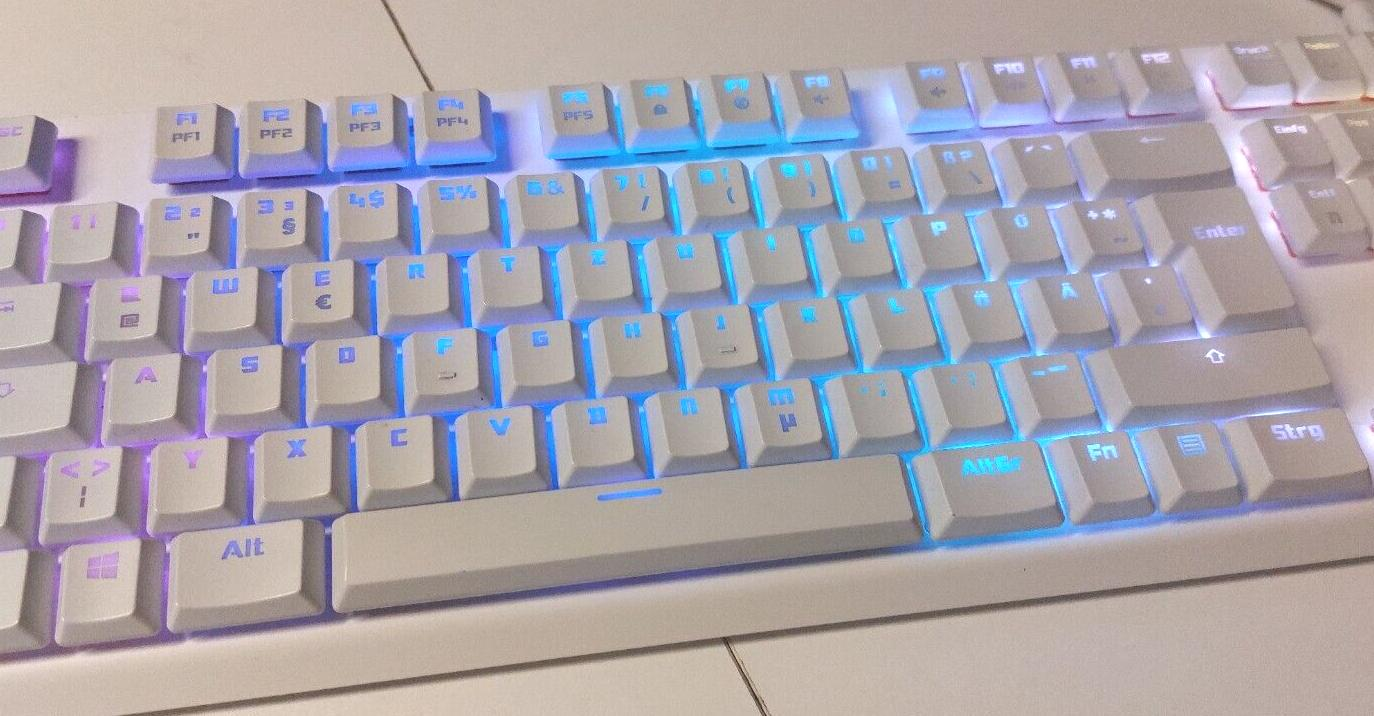0: (840, 142, 917, 203)
1: (44, 196, 116, 263)
2: (143, 192, 214, 257)
3: (236, 184, 308, 251)
4: (331, 178, 400, 243)
5: (425, 175, 492, 238)
6: (512, 167, 579, 230)
7: (597, 160, 665, 223)
8: (676, 154, 750, 217)
9: (760, 149, 834, 210)
a: (100, 349, 179, 425)
accent: (1005, 129, 1075, 189)
ae: (1031, 268, 1110, 333)
alt-left: (162, 514, 306, 621)
altgr-right: (910, 438, 1064, 534)
b: (552, 391, 635, 466)
c: (353, 411, 435, 490)
caret: (1, 203, 36, 270)
comma: (830, 366, 917, 439)
d: (309, 335, 385, 407)
del: (1081, 118, 1223, 179)
e: (279, 254, 355, 326)
enter: (1140, 183, 1294, 317)
f: (402, 323, 478, 395)
g: (497, 316, 574, 385)
h: (588, 309, 668, 375)
hash: (1115, 260, 1191, 327)
i: (735, 222, 809, 284)
j: (681, 300, 757, 368)
k: (766, 293, 848, 360)
keyboard: (1, 21, 1374, 716)
l: (855, 285, 938, 350)
less: (36, 442, 120, 526)
m: (734, 373, 824, 452)
minus: (1005, 348, 1096, 420)
n: (646, 382, 729, 456)
o: (817, 215, 894, 276)
oe: (942, 277, 1025, 342)
p: (902, 208, 979, 269)
plus: (1067, 193, 1143, 255)
point: (918, 358, 1008, 428)
q: (83, 269, 162, 344)
r: (376, 249, 449, 315)
s: (205, 340, 281, 414)
shift-left: (1, 455, 57, 535)
shift-lock: (1, 360, 78, 438)
shift-right: (1086, 326, 1330, 408)
space: (317, 447, 918, 602)
ss: (921, 135, 997, 196)
strg-left: (1, 546, 75, 641)
strg-right: (1228, 404, 1370, 484)
t: (471, 241, 542, 306)
tab: (1, 278, 63, 350)
u: (647, 228, 721, 291)
ue: (986, 200, 1062, 262)
v: (456, 400, 536, 478)
w: (183, 262, 258, 332)
x: (251, 421, 332, 501)
y: (147, 433, 227, 512)
z: (562, 236, 631, 298)
